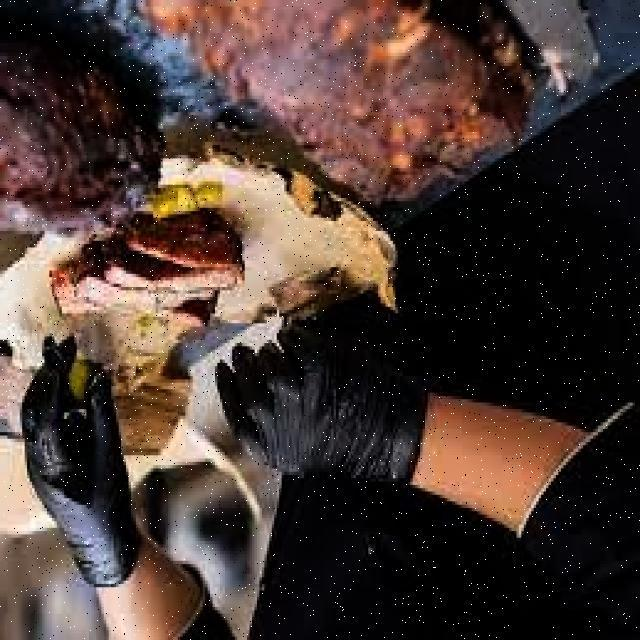apron: (221, 316, 427, 494), (23, 344, 146, 596)
